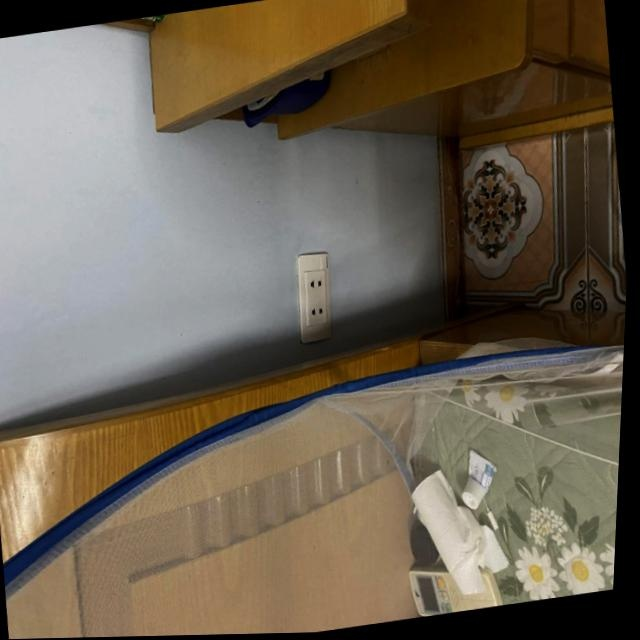outlet: (289, 250, 338, 344)
